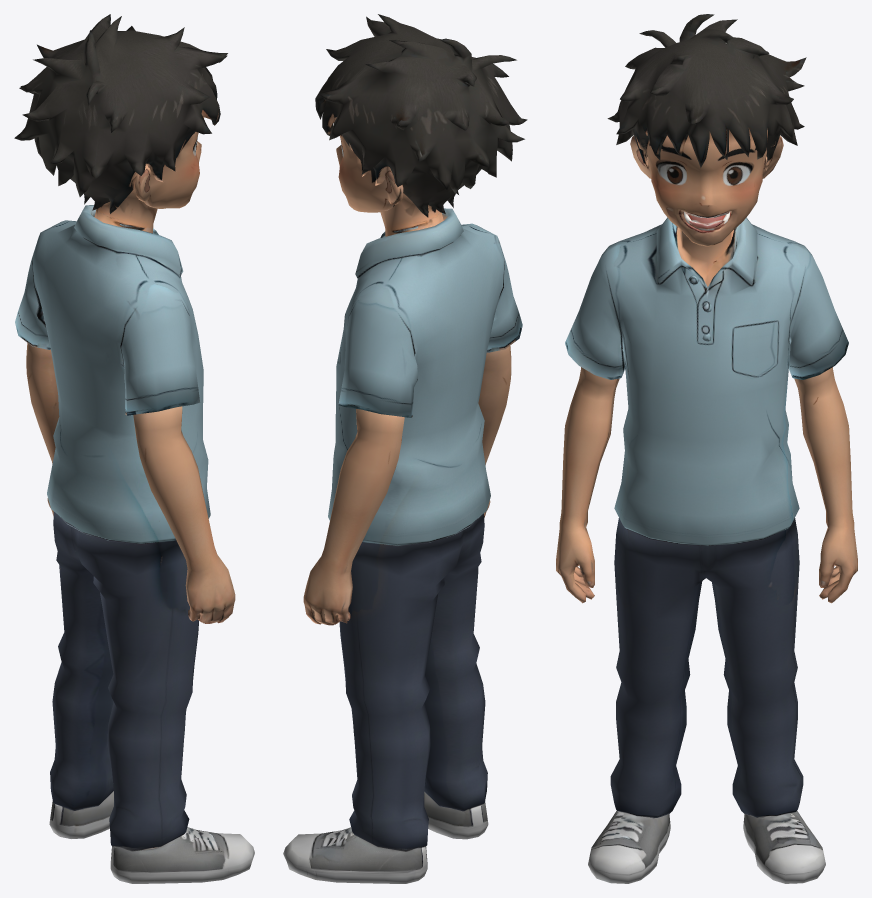
File: 3d+character+model_boy+3D.glb
The picture shows the model from 3 angles, left to right: view 1: azimuth 30°, elevation 25°; view 2: azimuth 150°, elevation 25°; view 3: azimuth 270°, elevation 25°; orthographic projection.
Visible parts, largest first — view 1: tripo_node_b7a40edb-2f90-43da-af41-d3aa1be42224; view 2: tripo_node_b7a40edb-2f90-43da-af41-d3aa1be42224; view 3: tripo_node_b7a40edb-2f90-43da-af41-d3aa1be42224.
Boxes of the visible parts, x1=… form: tripo_node_b7a40edb-2f90-43da-af41-d3aa1be42224: x1=14, y1=14, x2=254, y2=883; tripo_node_b7a40edb-2f90-43da-af41-d3aa1be42224: x1=283, y1=14, x2=527, y2=883; tripo_node_b7a40edb-2f90-43da-af41-d3aa1be42224: x1=556, y1=14, x2=857, y2=883.
Bounding box in the file's own units: 0.248 × 0.998 × 0.334.
Materials: 1 (1 with a texture image).
